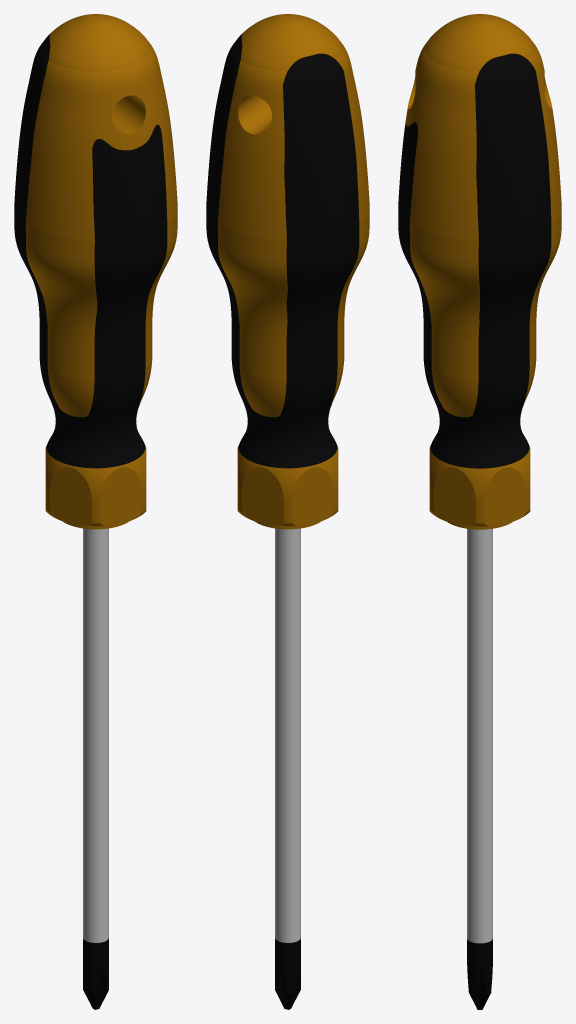
Rendered from Screwdriver.obj.
3 views of the same model, side by side, from view 1: azimuth 30°, elevation 25°; view 2: azimuth 150°, elevation 25°; view 3: azimuth 270°, elevation 25° (orthographic).
Visible parts, largest first — view 1: Screwdriver; view 2: Screwdriver; view 3: Screwdriver.
Part boxes in pixels (x1,y1,x2,y2): Screwdriver: (14,14,177,1009); Screwdriver: (206,14,369,1009); Screwdriver: (398,14,561,1009).
Size of the model in its own units: 31.4 by 210 by 31.4.
